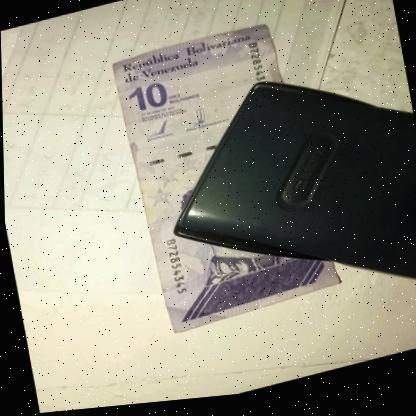ten-front-vef: (64, 83, 378, 330)
